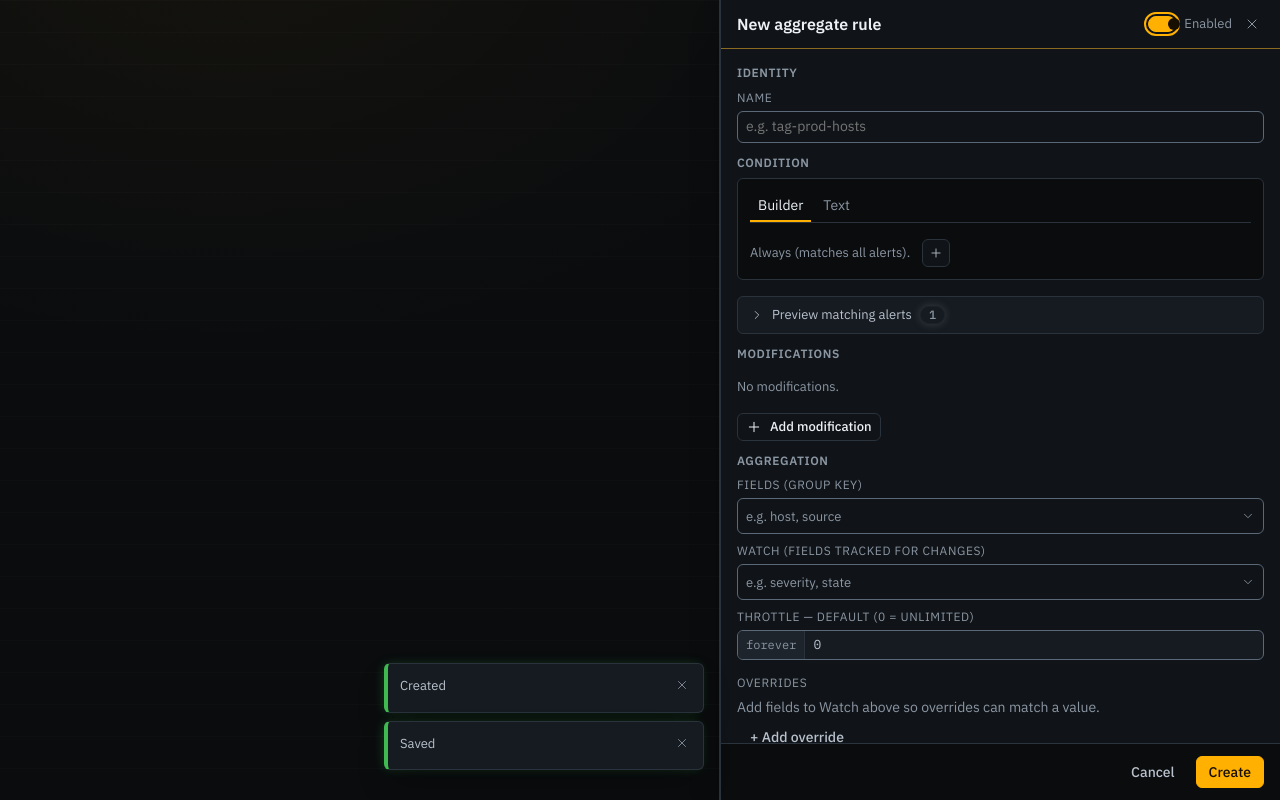
it: RuleEditor › offers record field-name autocomplete in the aggregate Fields picker
This screenshot has width=1280, height=800.
What coordinates should you click on to do the following:
click the dropdown named "aggregation fields"
I would click on:
 (794, 516)
Its box is [737, 498, 1264, 534].
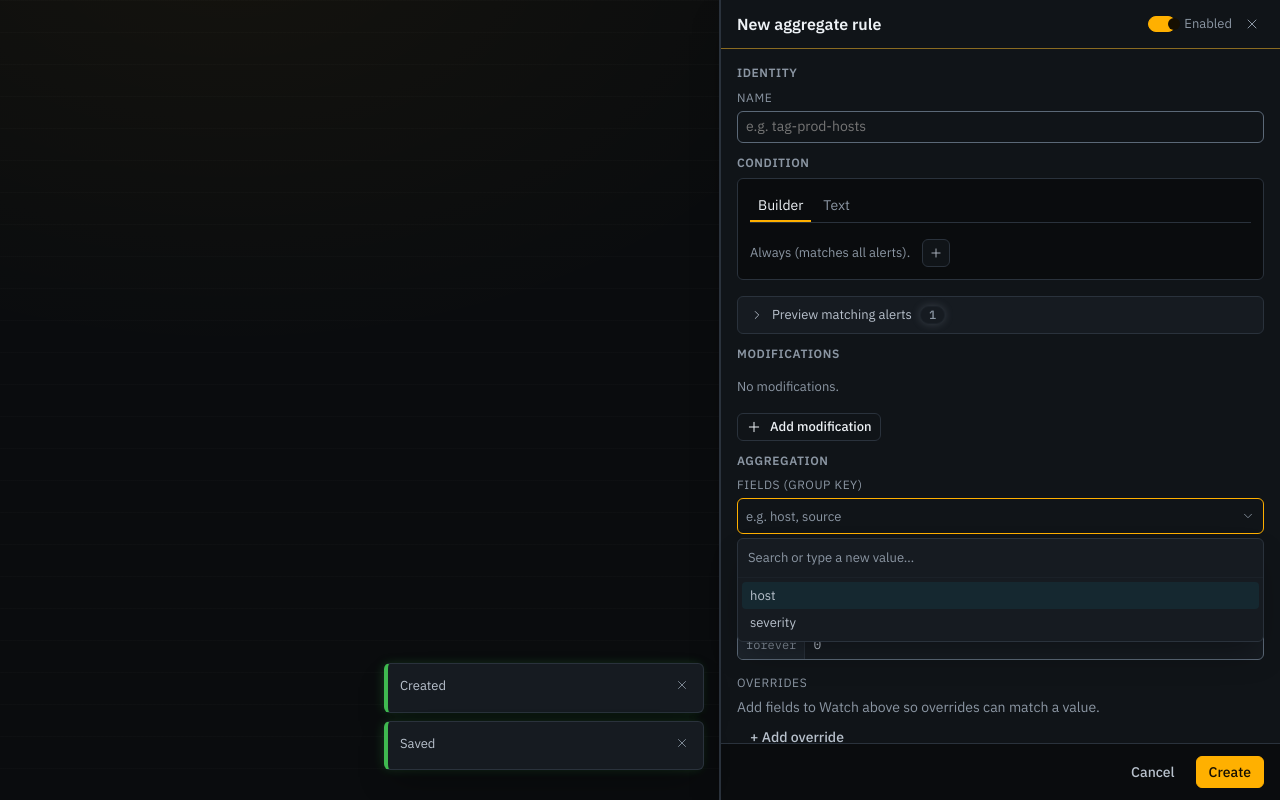
Expected: the option "severity" is shown, [750, 614, 796, 631]
